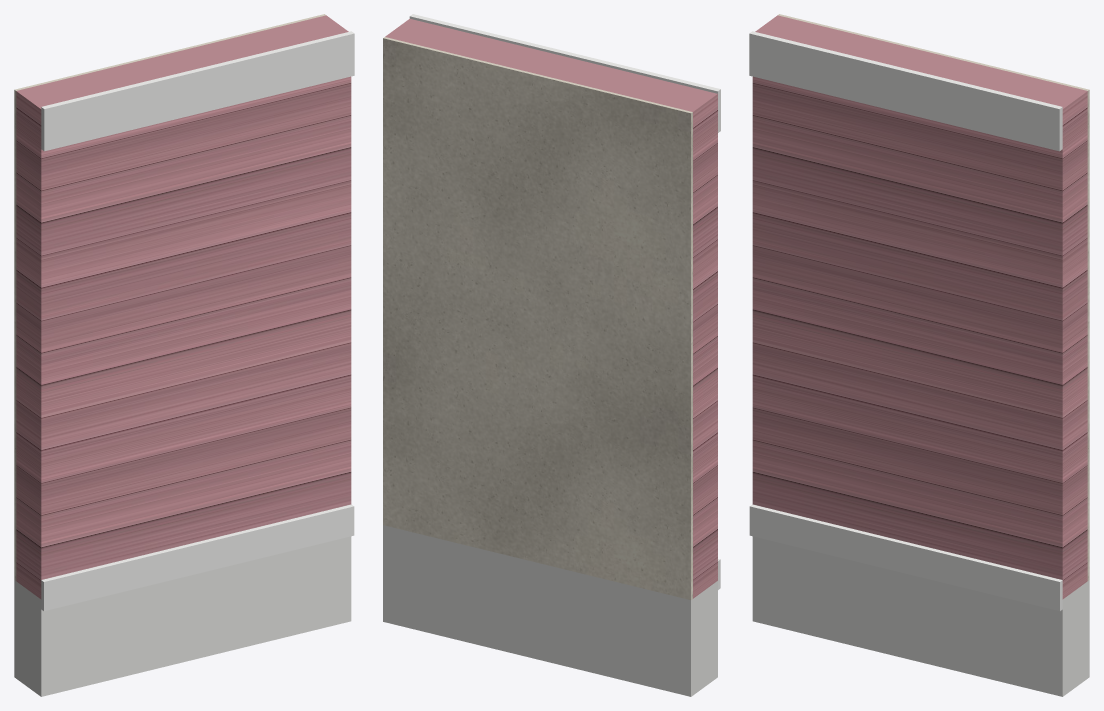
Rendered from wall_a_plain.glb.
The picture shows the model from 3 angles, left to right: view 1: azimuth 30°, elevation 25°; view 2: azimuth 150°, elevation 25°; view 3: azimuth 330°, elevation 25°; orthographic projection.
Visible parts, largest first — view 1: wall_a_plain_siding_a, wall_a_plain_lattice, wall_a_plain_trim, wall_a_plain_plaster; view 2: wall_a_plain_plaster, wall_a_plain_lattice, wall_a_plain_siding_a, wall_a_plain_trim; view 3: wall_a_plain_siding_a, wall_a_plain_lattice, wall_a_plain_trim, wall_a_plain_plaster.
Part boxes in pixels (<box>): wall_a_plain_siding_a: <box>16,15,351,599</box>; wall_a_plain_lattice: <box>14,536,351,696</box>; wall_a_plain_trim: <box>41,31,354,611</box>; wall_a_plain_plaster: <box>14,14,325,580</box>; wall_a_plain_plaster: <box>383,37,692,599</box>; wall_a_plain_lattice: <box>383,525,717,696</box>; wall_a_plain_siding_a: <box>385,19,717,598</box>; wall_a_plain_trim: <box>409,14,720,589</box>; wall_a_plain_siding_a: <box>752,15,1087,599</box>; wall_a_plain_lattice: <box>752,536,1089,696</box>; wall_a_plain_trim: <box>749,31,1062,611</box>; wall_a_plain_plaster: <box>778,14,1089,580</box>.
Size of the model in its own units: 2 by 3.63 by 0.335.
4 materials, 2 textured.
